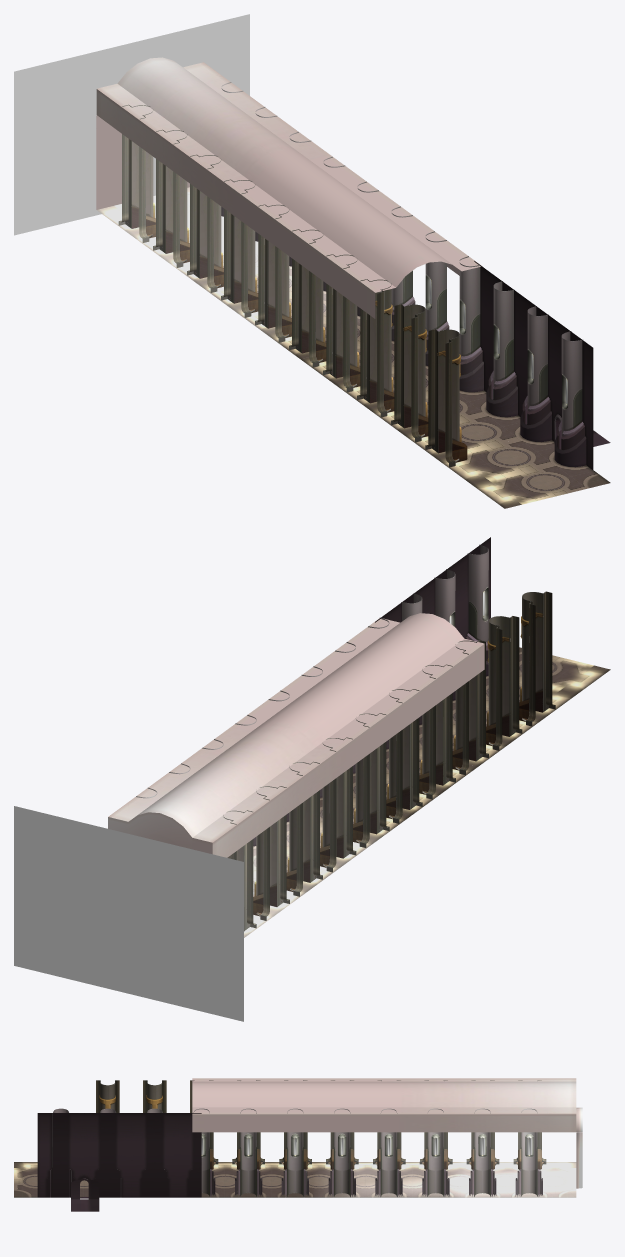
The model's file is SWCorridor02-13.obj.
3 renders of one model, top to bottom at view 1: azimuth 30°, elevation 25°; view 2: azimuth 150°, elevation 25°; view 3: azimuth 270°, elevation 25°, orthographic. The views are drawn at different scales.
Parts seen in each view (by area): view 1: Back, Background, Wall, Pilar02B021, Pilar02B032, Pilar02B02, Sol1, Pilar011, Pilar01B01, Pilar01, Sol2, Pilar02B03 (+12 smaller); view 2: Background, Back, Pilar02B032, Pilar02B021, Pilar02B02, Pilar02B05, Pilar02B031, Pilar02B03, Pilar02B08, Pilar02B07, Pilar02B06, Wall (+5 smaller); view 3: Back, Wall, SolLight, Pilar01B06, Pilar01B04, Pilar01B09, Pilar01B03, Pilar01B08, Pilar01B05, Pilar01B07, Sol5, Sol6 (+13 smaller).
Boxes of the visible parts, x1,y1,x2,y2 form: Back: [96, 57, 482, 318]; Background: [14, 14, 249, 235]; Wall: [474, 261, 593, 469]; Pilar02B021: [425, 329, 467, 467]; Pilar02B032: [391, 304, 428, 442]; Pilar02B02: [357, 279, 394, 417]; Sol1: [471, 463, 610, 508]; Pilar011: [554, 331, 586, 467]; Pilar01B01: [486, 281, 517, 417]; Pilar01: [520, 306, 551, 442]; Sol2: [437, 438, 556, 483]; Pilar02B03: [323, 254, 360, 392]; Background: [14, 806, 243, 1021]; Back: [108, 613, 484, 857]; Pilar02B032: [486, 616, 522, 750]; Pilar02B021: [519, 591, 555, 726]; Pilar02B02: [452, 640, 488, 775]; Pilar02B05: [353, 713, 389, 847]; Pilar02B031: [386, 689, 422, 823]; Pilar02B03: [419, 664, 455, 799]; Pilar02B08: [253, 786, 289, 920]; Pilar02B07: [286, 761, 322, 896]; Pilar02B06: [320, 737, 356, 872]; Wall: [375, 537, 490, 638]; Back: [192, 1078, 582, 1188]; Wall: [37, 1113, 201, 1197]; SolLight: [295, 1162, 576, 1197]; Pilar01B06: [375, 1108, 402, 1197]; Pilar01B04: [281, 1108, 308, 1197]; Pilar01B09: [515, 1108, 542, 1197]; Pilar01B03: [235, 1108, 262, 1197]; Pilar01B08: [469, 1108, 496, 1196]; Pilar01B05: [328, 1108, 355, 1197]; Pilar01B07: [422, 1108, 449, 1196]; Sol5: [201, 1162, 248, 1197]; Sol6: [248, 1162, 295, 1197].
Bounding box in the file's own units: 7.73 × 5.28 × 24.61.
29 materials, 28 textured.
